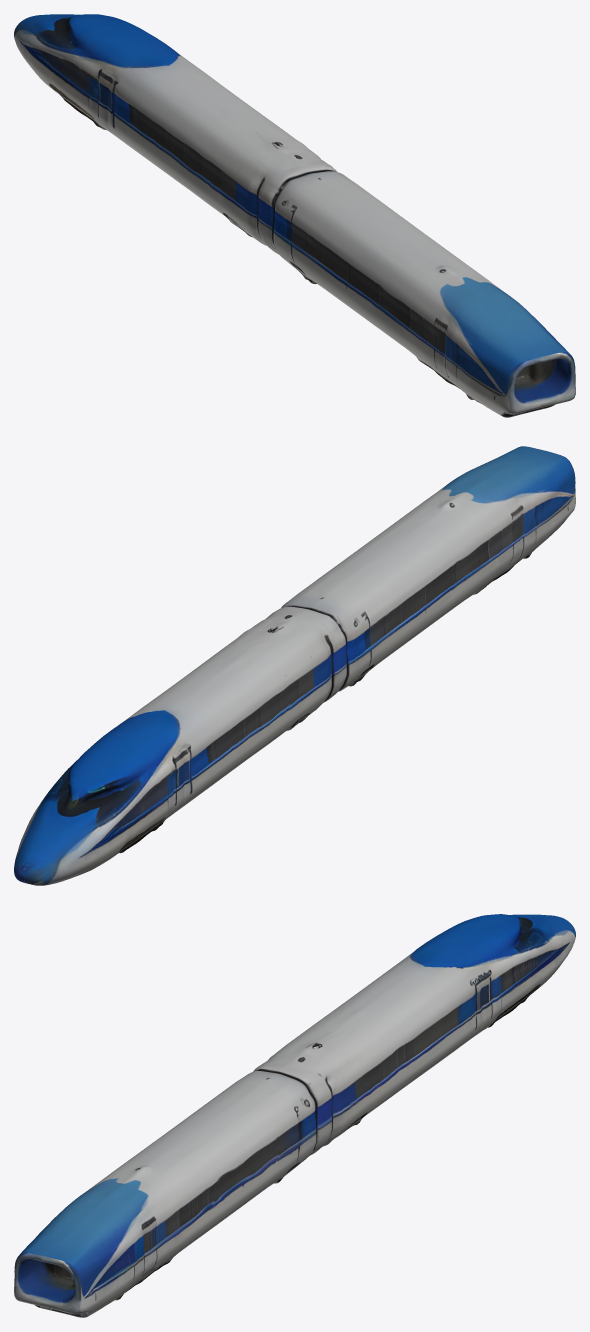
3 renders of one model, top to bottom at view 1: azimuth 30°, elevation 25°; view 2: azimuth 150°, elevation 25°; view 3: azimuth 330°, elevation 25°, orthographic.
Parts seen in each view (by area): view 1: tripo_node_6c613203-d48d-4258-98a2-ceac1ca9befe; view 2: tripo_node_6c613203-d48d-4258-98a2-ceac1ca9befe; view 3: tripo_node_6c613203-d48d-4258-98a2-ceac1ca9befe.
Boxes of the visible parts, left/top/right/bottom form: tripo_node_6c613203-d48d-4258-98a2-ceac1ca9befe: left=14, top=14, right=575, bottom=417; tripo_node_6c613203-d48d-4258-98a2-ceac1ca9befe: left=14, top=446, right=575, bottom=885; tripo_node_6c613203-d48d-4258-98a2-ceac1ca9befe: left=14, top=914, right=575, bottom=1317.
Bounding box in the file's own units: 0.0851 × 0.0929 × 0.9473.
Materials: 1 (1 with a texture image).
